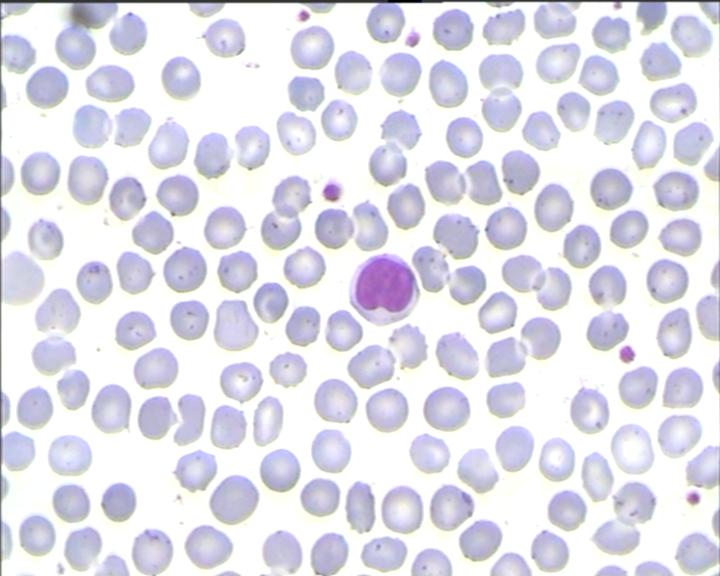lymp: (344, 250, 422, 328)
